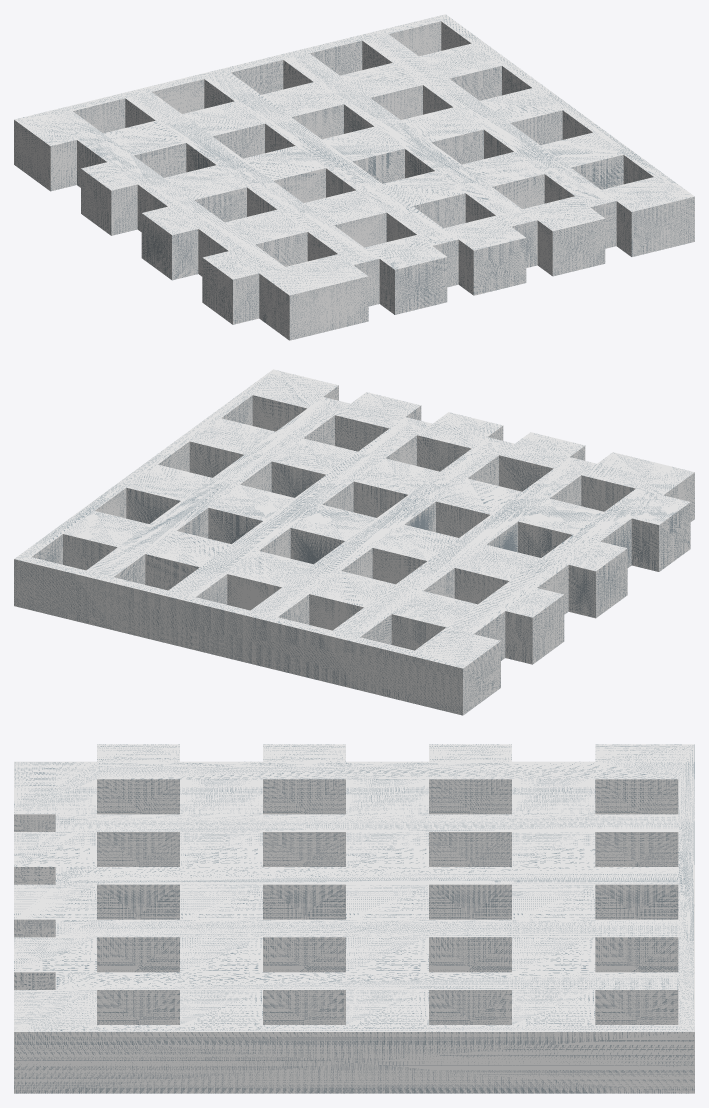
3 views of the same model, one above another, from view 1: azimuth 30°, elevation 25°; view 2: azimuth 150°, elevation 25°; view 3: azimuth 270°, elevation 25° (orthographic). The views are drawn at different scales.
Visible parts, largest first — view 1: Model; view 2: Model; view 3: Model.
Part boxes in pixels (x1=…): Model: x1=14, y1=14, x2=694, y2=340; Model: x1=14, y1=369, x2=694, y2=715; Model: x1=14, y1=744, x2=694, y2=1093.
Bounding box in the file's own units: 5 × 0.5 × 5.
